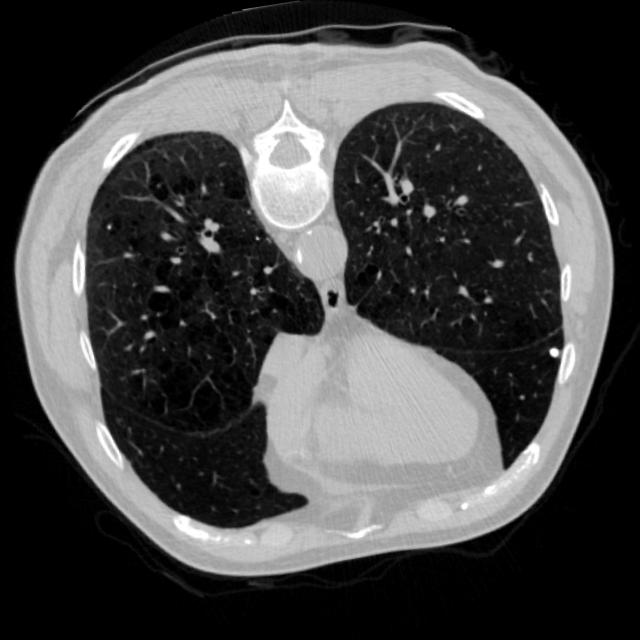nodule: (540, 340, 564, 366)
